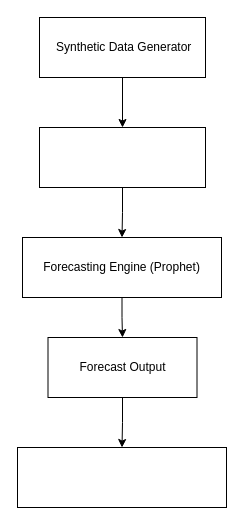
Some shapes in this 244 by 525 pixel diagram are drawn without their labels. The shapes that lost their labels are listed below. From the top down, each one's centre as x and y in pixels, then its label:
At pixel 122 157: "Raw Data Storage (CSV)".
At pixel 121 477: "Analytics / Dashboard (Future)".
